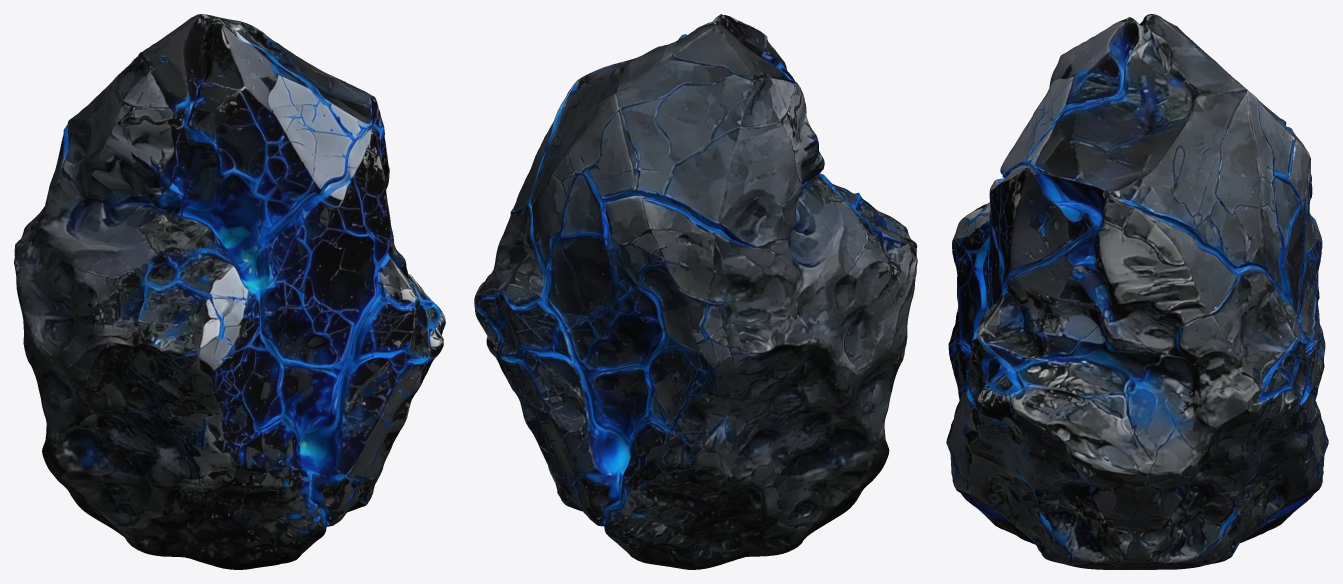
File: stone_water.glb
3 views of the same model, side by side, from view 1: azimuth 30°, elevation 25°; view 2: azimuth 150°, elevation 25°; view 3: azimuth 270°, elevation 25° (orthographic).
Parts seen in each view (by area): view 1: tripo_node_3ceb03c4; view 2: tripo_node_3ceb03c4; view 3: tripo_node_3ceb03c4.
Boxes of the visible parts, x1,y1,x2,y2 form: tripo_node_3ceb03c4: (14,14,445,569); tripo_node_3ceb03c4: (474,14,917,569); tripo_node_3ceb03c4: (946,14,1328,569).
Size of the model in its own units: 75.69 by 97.71 by 66.46.
1 material, 1 textured.
